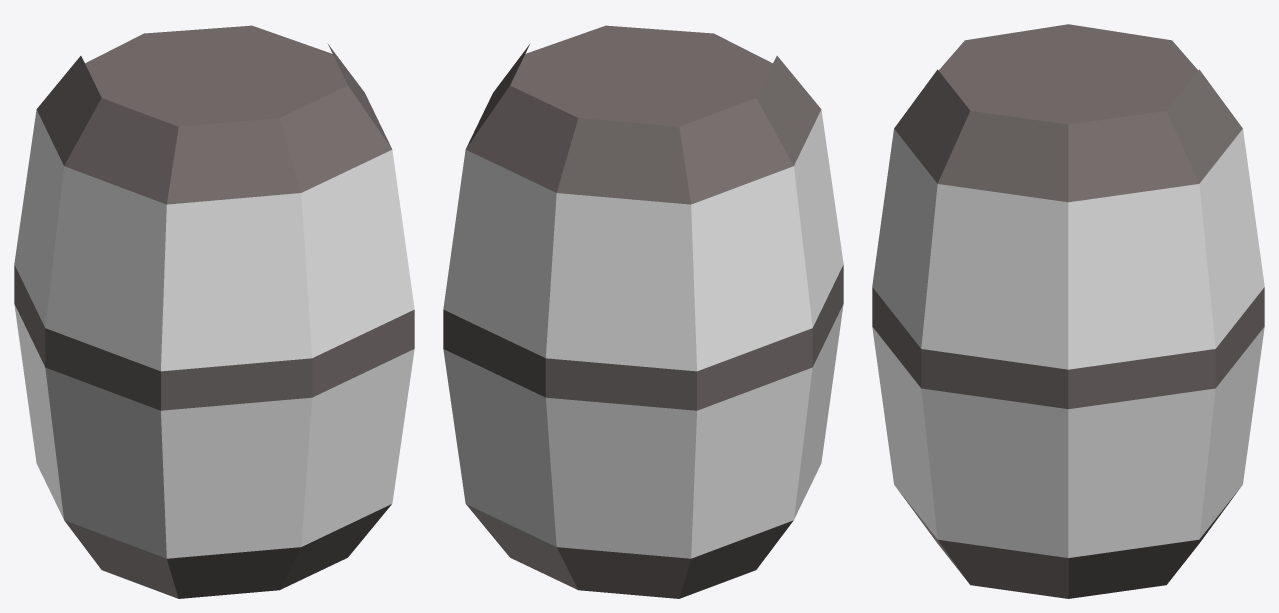
3 views of the same model, side by side, from view 1: azimuth 30°, elevation 25°; view 2: azimuth 150°, elevation 25°; view 3: azimuth 270°, elevation 25° (orthographic).
Bounding box in the file's own units: 72 × 96 × 72.
1 material, 1 textured.
